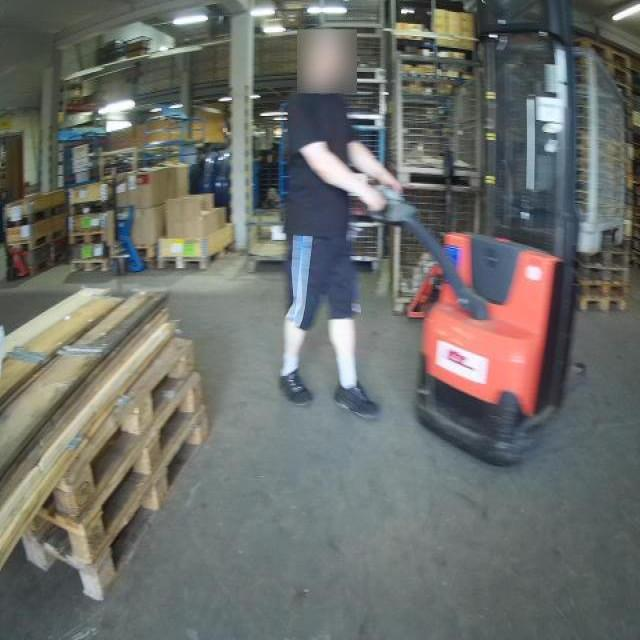pallet: (13, 367, 208, 564), (21, 401, 209, 601), (43, 329, 199, 524), (158, 238, 235, 273), (5, 227, 69, 254), (577, 35, 630, 63), (4, 200, 66, 222), (30, 248, 67, 278), (577, 247, 632, 263), (577, 263, 629, 278), (69, 198, 111, 216), (577, 292, 626, 307), (577, 278, 629, 292), (582, 66, 630, 80), (582, 82, 632, 95), (582, 95, 632, 108), (71, 256, 106, 274), (69, 230, 108, 245), (612, 111, 633, 127), (614, 143, 632, 161), (612, 127, 632, 143), (614, 161, 633, 175), (623, 190, 633, 211), (619, 177, 633, 190), (623, 223, 629, 242), (623, 211, 631, 222)
pallet_truck: (359, 17, 603, 481), (105, 192, 148, 277), (4, 235, 51, 284)
stillage: (502, 37, 632, 252), (388, 55, 491, 184), (390, 181, 487, 314), (308, 132, 386, 182), (314, 33, 386, 75), (327, 82, 387, 128), (340, 221, 386, 266), (321, 3, 385, 28)
